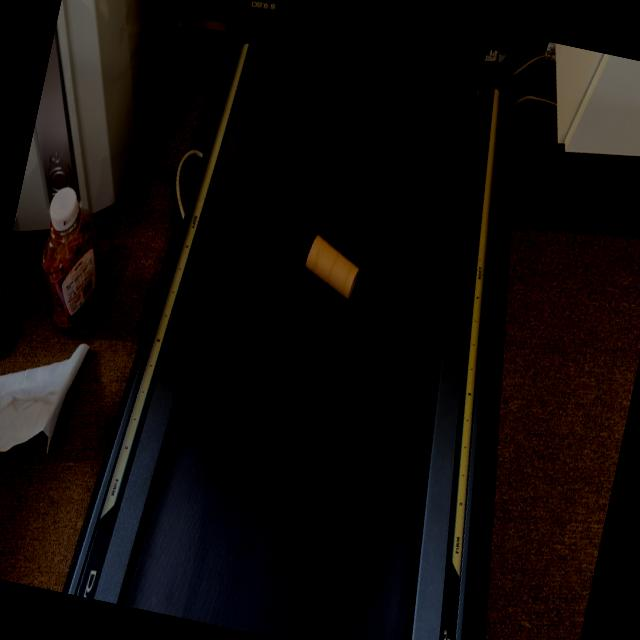Recycle: (294, 227, 370, 311)
